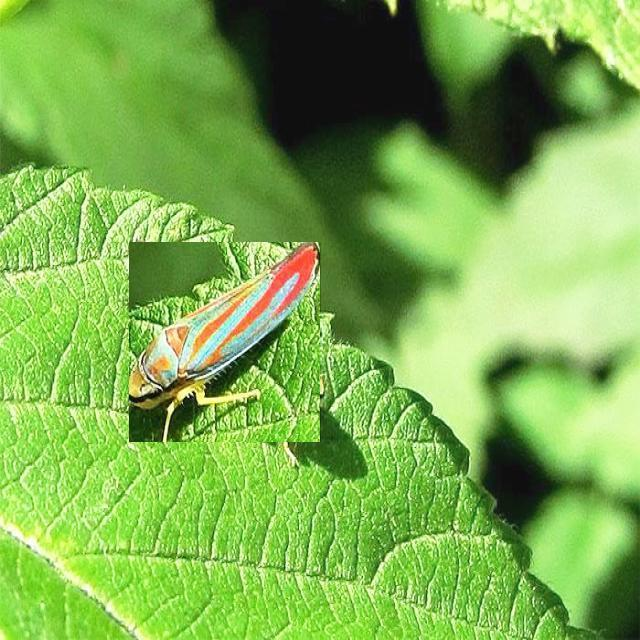green-leafhopper: (130, 243, 322, 443)
